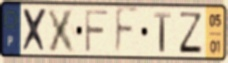F: (113, 5, 140, 58), (83, 8, 110, 55)
T: (152, 11, 172, 54)
X: (45, 7, 78, 55), (21, 7, 50, 55)
Z: (178, 10, 204, 55)
